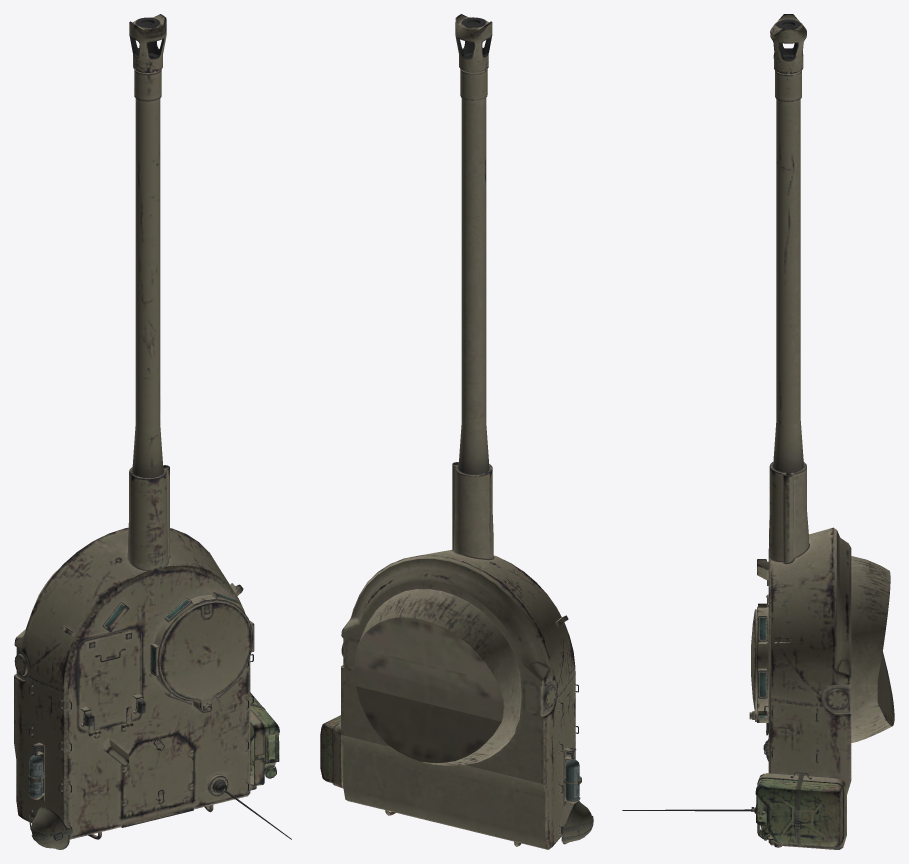
The model's file is Gun_03.glb.
The picture shows the model from 3 angles, left to right: view 1: azimuth 30°, elevation 25°; view 2: azimuth 150°, elevation 25°; view 3: azimuth 270°, elevation 25°; orthographic projection.
Visible parts, largest first — view 1: set_0_group_0; view 2: set_0_group_0; view 3: set_0_group_0.
Boxes of the visible parts, box(x1,y1,x2,y2) form: set_0_group_0: box(14, 14, 291, 849); set_0_group_0: box(320, 14, 593, 849); set_0_group_0: box(622, 14, 894, 849).
Bounding box in the file's own units: 1.54 × 4.84 × 1.51.
Materials: 1 (1 with a texture image).
